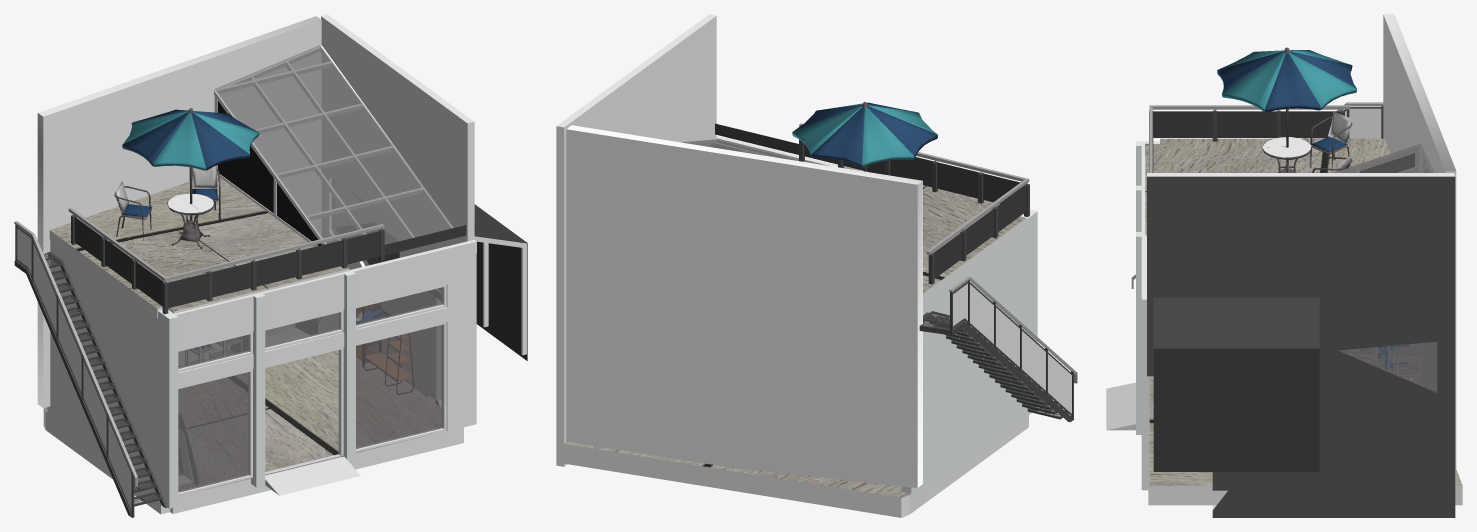
Rendered from Indibiz.fbx.
3 renders of one model, left to right at view 1: azimuth 30°, elevation 25°; view 2: azimuth 150°, elevation 25°; view 3: azimuth 270°, elevation 25°, orthographic. The views are drawn at different scales.
Parts seen in each view (by area): view 1: TEMBOK INDIBIZ.001, KacaIndi, a lantai, Atap.002, Atap, a tangga, a Kursi, a Falfon, rak baju, Plane.007, MEJA, rak; view 2: TEMBOK INDIBIZ.001, a lantai, a tangga, Atap, a Kursi, Atap.002; view 3: TEMBOK INDIBIZ.001, a Falfon, a Kursi, Atap.002, Atap, KacaIndi, a lantai, a tangga, rak.
Boxes of the visible parts, x1=… form: TEMBOK INDIBIZ.001: x1=37, y1=14, x2=476, y2=508; KacaIndi: x1=178, y1=45, x2=453, y2=492; a lantai: x1=43, y1=321, x2=463, y2=514; Atap.002: x1=49, y1=175, x2=349, y2=318; Atap: x1=68, y1=208, x2=475, y2=314; a tangga: x1=14, y1=221, x2=167, y2=517; a Kursi: x1=114, y1=108, x2=259, y2=248; a Falfon: x1=474, y1=204, x2=527, y2=360; rak baju: x1=364, y1=304, x2=413, y2=394; Plane.007: x1=178, y1=414, x2=198, y2=485; MEJA: x1=230, y1=318, x2=318, y2=352; rak: x1=178, y1=336, x2=241, y2=366; TEMBOK INDIBIZ.001: x1=556, y1=14, x2=1037, y2=500; a lantai: x1=563, y1=415, x2=1028, y2=517; a tangga: x1=919, y1=276, x2=1077, y2=422; Atap: x1=715, y1=123, x2=1029, y2=284; a Kursi: x1=792, y1=102, x2=937, y2=171; Atap.002: x1=844, y1=166, x2=1026, y2=303; TEMBOK INDIBIZ.001: x1=1106, y1=14, x2=1456, y2=517; a Falfon: x1=1153, y1=297, x2=1319, y2=472; a Kursi: x1=1217, y1=47, x2=1356, y2=172; Atap.002: x1=1145, y1=138, x2=1390, y2=235; Atap: x1=1149, y1=105, x2=1350, y2=295; KacaIndi: x1=1333, y1=144, x2=1437, y2=392; a lantai: x1=1148, y1=349, x2=1462, y2=505; a tangga: x1=1131, y1=102, x2=1383, y2=288; rak: x1=1372, y1=344, x2=1420, y2=385.
Bounding box in the file's own units: 890 × 725 × 651.
Materials: 71 (17 with a texture image).
